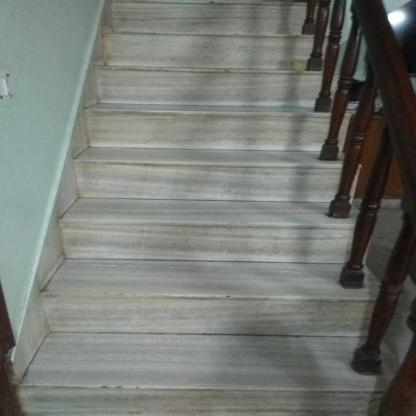stair: (37, 0, 387, 411)
